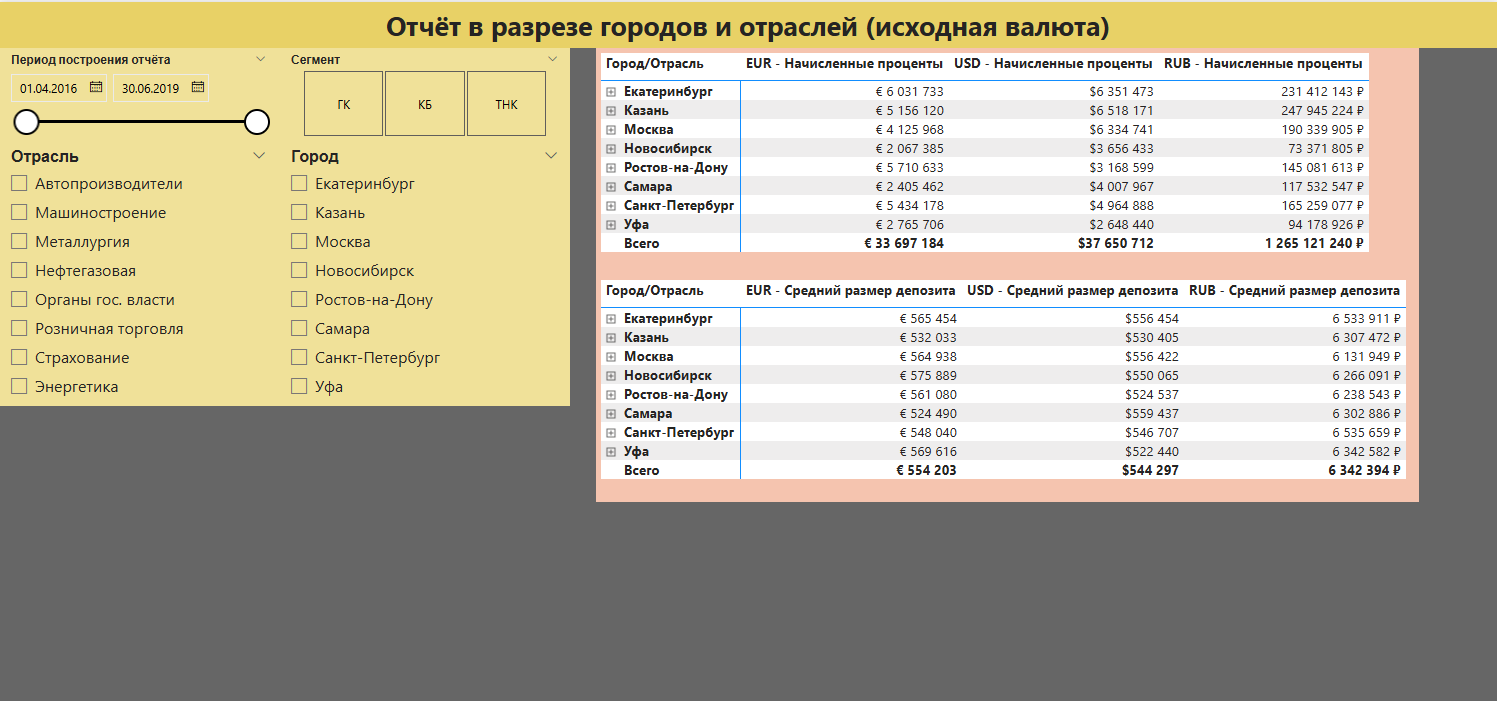

The dashboard page shown, as its layout file describes it:
{"tool":"powerbi","page":{"name":"Отчёт в разрезе городов и отраслей (исходная валюта)","canvas":[1500,700],"ordinal":2},"visuals":[{"type":"slicer","fields":{"Values":["Календарь (Курс валют).Дата"]},"box":[0,46,280,95],"z":0},{"type":"slicer","fields":{"Values":["Клиенты.Отрасль"]},"box":[0,141,280,263],"z":1000},{"type":"slicer","fields":{"Values":["Клиенты.Сегмент"]},"box":[280,46,292,95],"z":2000},{"type":"slicer","fields":{"Values":["Клиенты.Город"]},"box":[280,141,292,263],"z":3000},{"type":"textbox","box":[0,0,1500,46],"z":4000},{"type":"pivotTable","fields":{"Rows":["Клиенты.Город","Клиенты.Отрасль"],"Values":["Меры для визуализации (EUR).EUR - Начисленные проценты","Меры для визуализации (USD).USD - Начисленные проценты","Меры для визуализации (RUB).RUB - Начисленные проценты"]},"box":[598,46,823,227],"z":5000},{"type":"pivotTable","fields":{"Rows":["Клиенты.Город","Клиенты.Отрасль"],"Values":["Меры для визуализации (EUR).EUR - Средний размер депозита","Меры для визуализации (USD).USD - Средний размер депозита","Меры для визуализации (RUB).RUB - Средний размер депозита"]},"box":[598,273,823,227],"z":6000}]}

Visuals, with their boxes in screenshot pixels (x1, y1, x2, y2), scaled from the page's 1500x700 canvas onto the 1497x701 screenshot:
slicer - Календарь (Курс валют).Дата: rect(0, 46, 279, 141)
slicer - Клиенты.Отрасль: rect(0, 141, 279, 405)
slicer - Клиенты.Сегмент: rect(279, 46, 571, 141)
slicer - Клиенты.Город: rect(279, 141, 571, 405)
textbox: rect(0, 0, 1496, 46)
pivotTable - Клиенты.Город x Клиенты.Отрасль: rect(597, 46, 1418, 273)
pivotTable - Клиенты.Город x Клиенты.Отрасль: rect(597, 273, 1418, 501)
